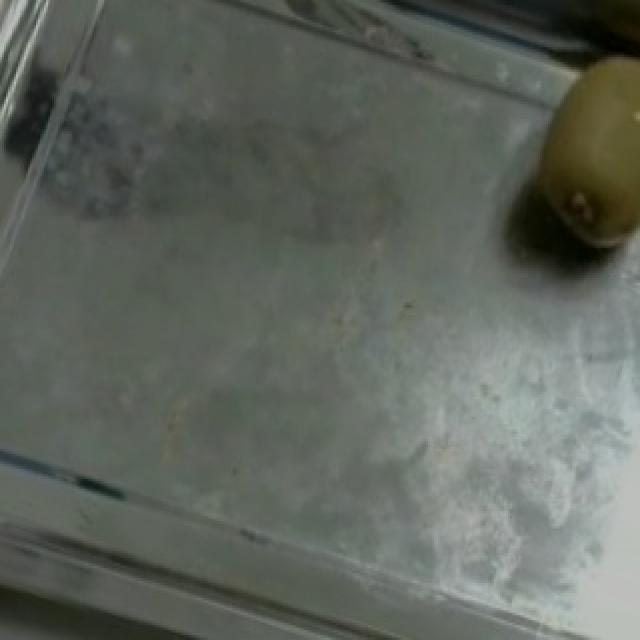Fruit: (484, 30, 640, 295)
